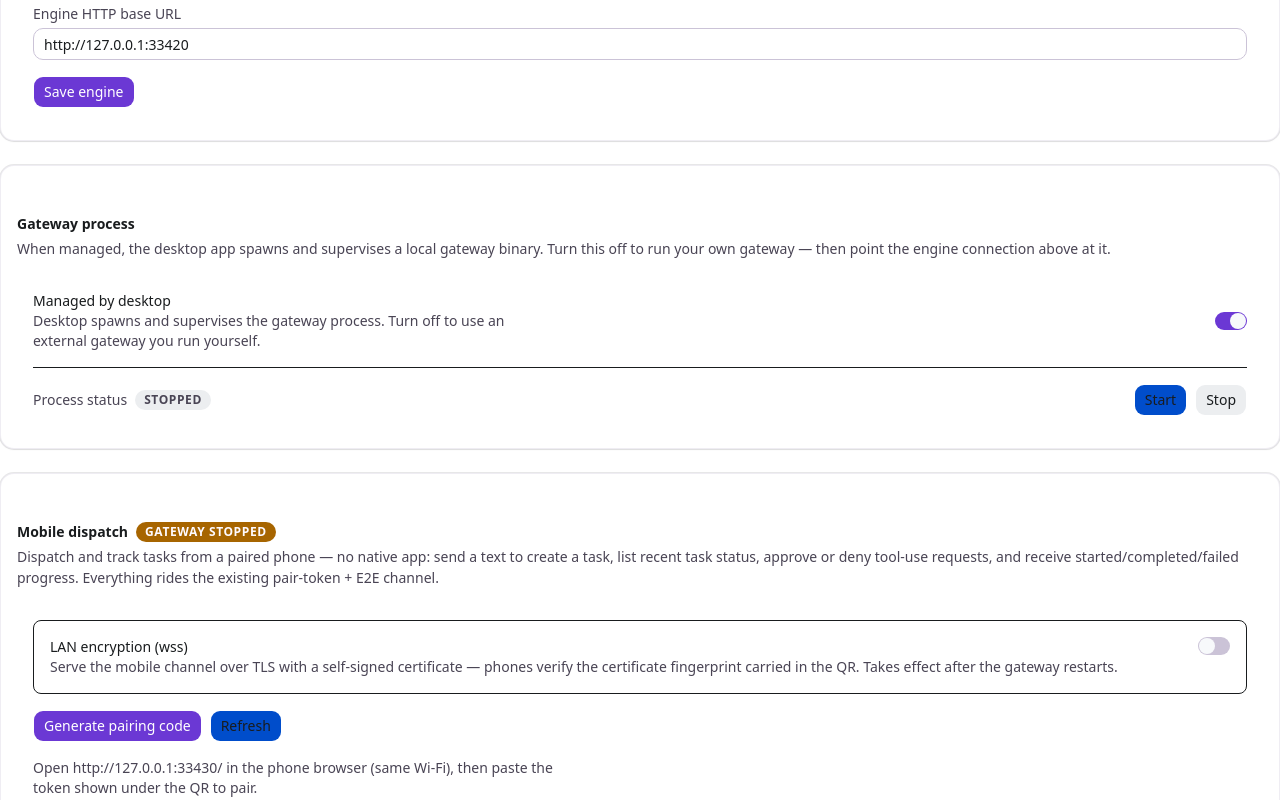
Test: ConnectionsSettings › starts the supervised gateway and shows the running badge
(page scrolled)
Click the button "Start": [1160, 400] box left=1134, top=384, right=1187, bottom=416
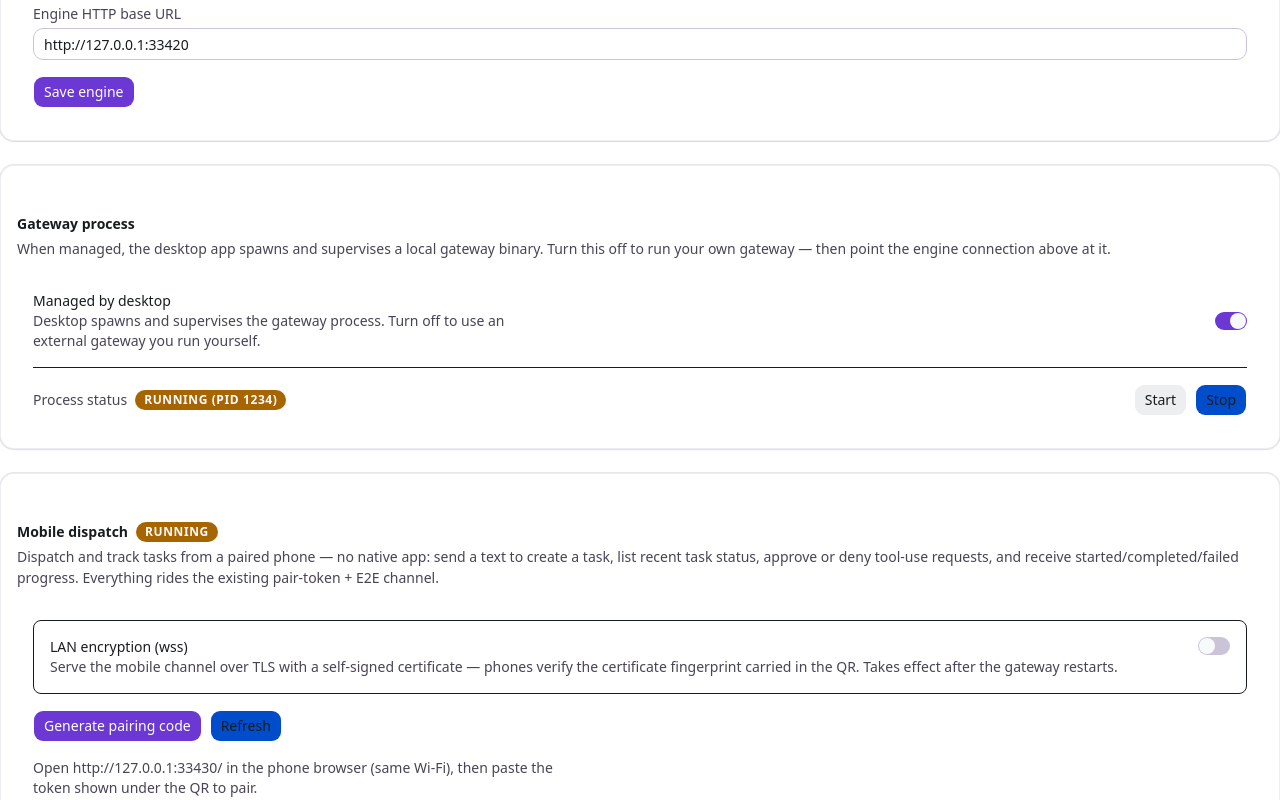
Result: the text with test id "gateway-status-badge" shows "Running" at left=144, top=391, right=277, bottom=408
Result: the text with test id "gateway-status-badge" shows "1234" at left=144, top=391, right=277, bottom=408
